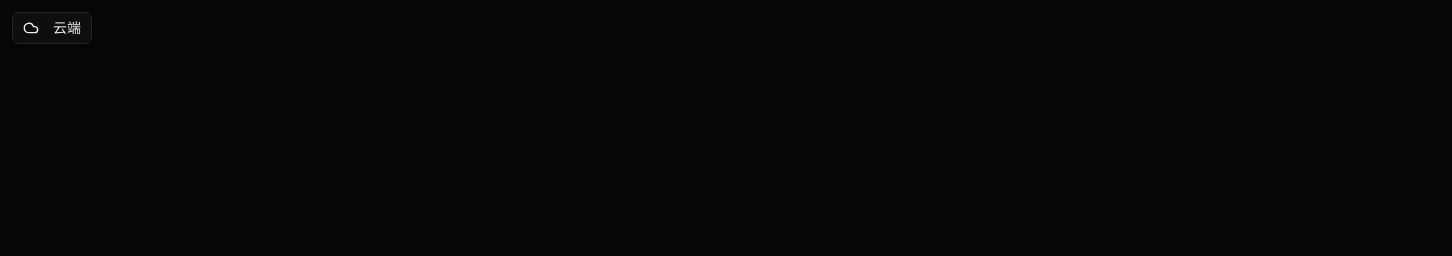
CloudWorkflows › 已登录时展示邮箱与保存入口
Click the button "云端".
click(52, 28)  # box [12,12,92,44]
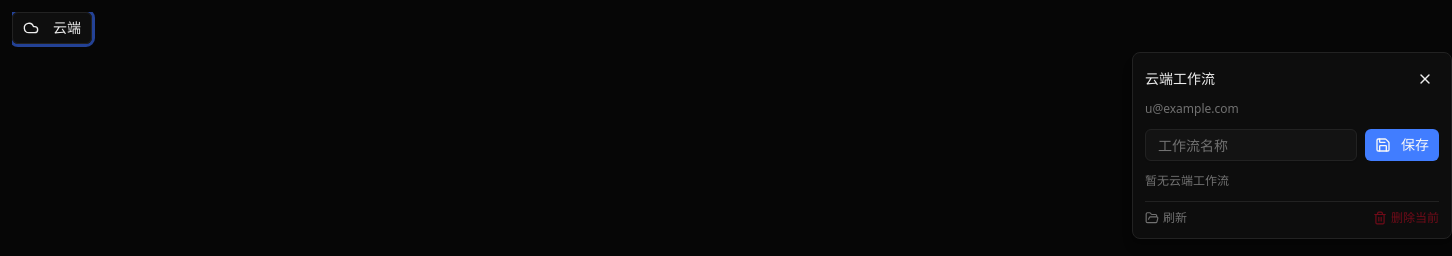
expect the text "u@example.com" is shown: met, box [1145,100,1239,117]
expect the button "保存" is shown: met, box [1365,129,1439,161]
expect the text "暂无云端工作流" is shown: met, box [1145,173,1229,189]
